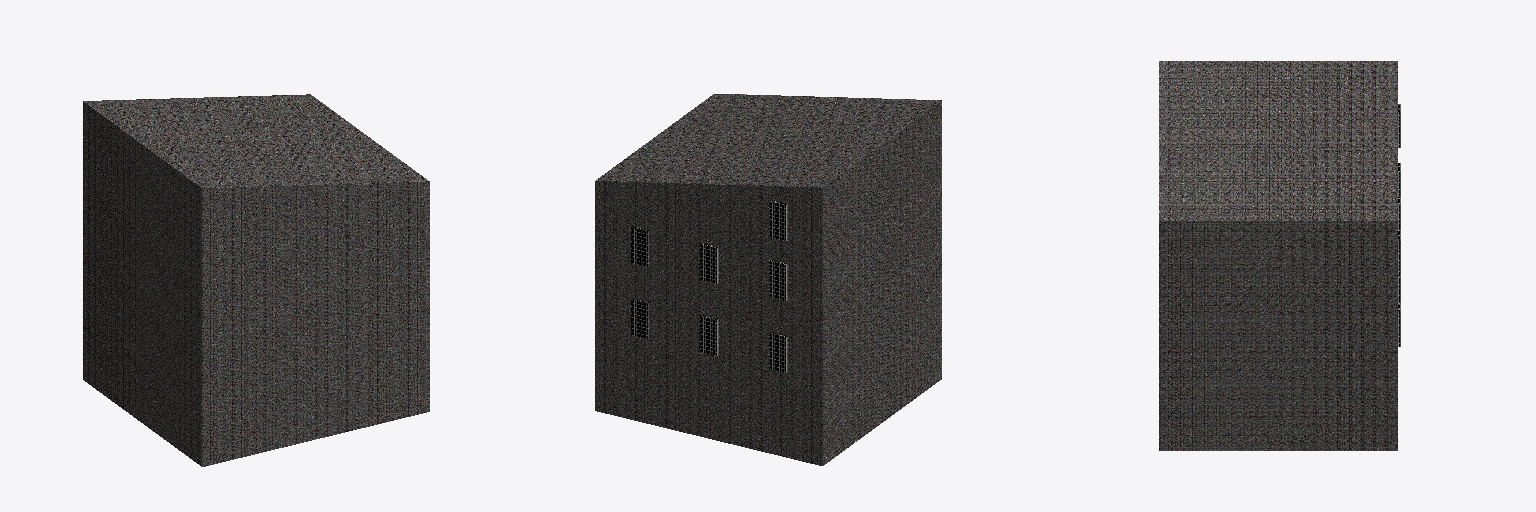
3 renders of one model, left to right at view 1: azimuth 30°, elevation 25°; view 2: azimuth 150°, elevation 25°; view 3: azimuth 270°, elevation 25°, orthographic.
Parts seen in each view (by area): view 1: slantedconcretebuilding; view 2: slantedconcretebuilding; view 3: slantedconcretebuilding.
Part boxes in pixels (bbox=[...]): slantedconcretebuilding: bbox=[83, 94, 429, 466]; slantedconcretebuilding: bbox=[595, 94, 941, 465]; slantedconcretebuilding: bbox=[1159, 61, 1400, 450].
Size of the model in its own units: 66 by 77.22 by 60.49.
Materials: 2 (2 with a texture image).